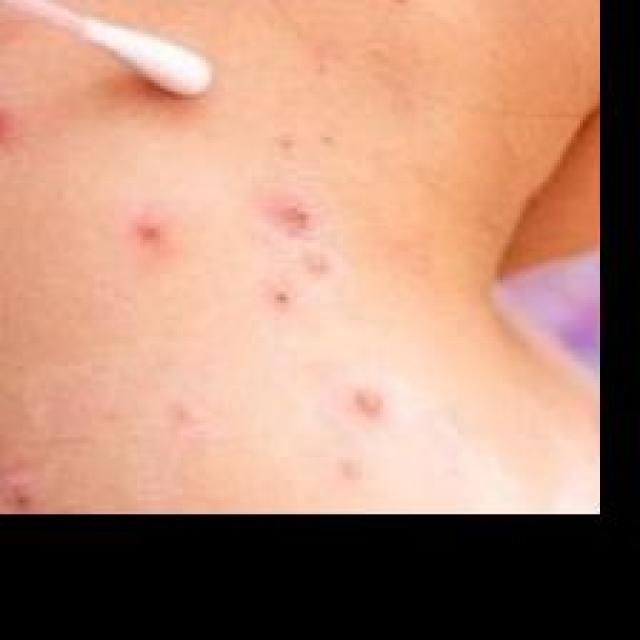monkeypox: (33, 102, 564, 500)
